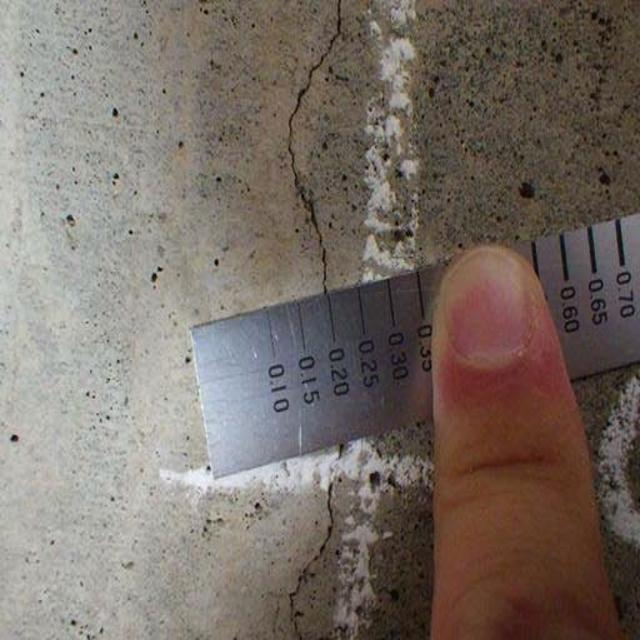crack: (282, 5, 364, 292), (277, 455, 342, 640)
